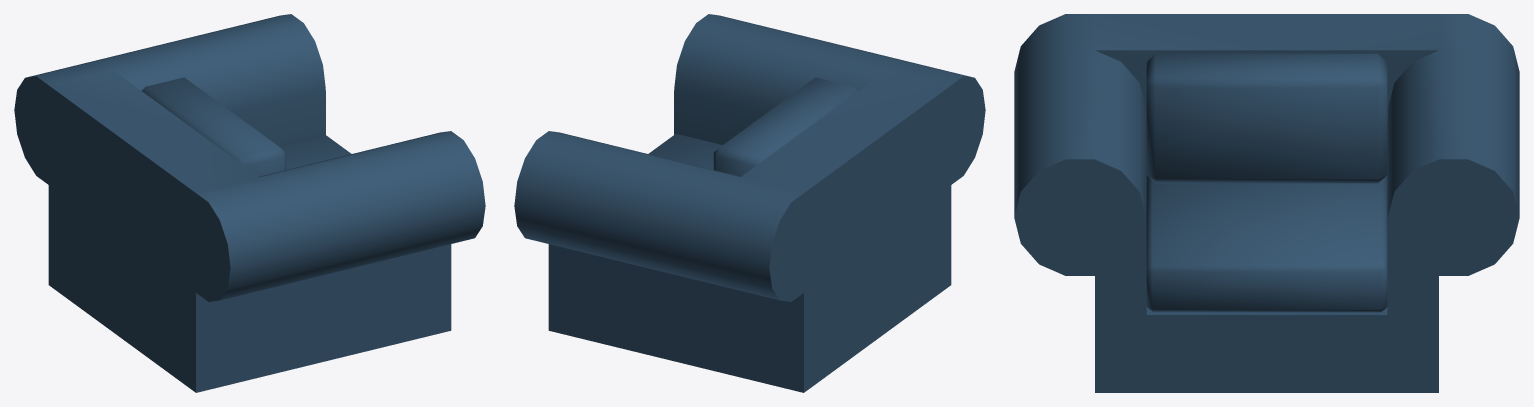
Rendered from armchair.fbx.
The picture shows the model from 3 angles, left to right: view 1: azimuth 30°, elevation 25°; view 2: azimuth 150°, elevation 25°; view 3: azimuth 270°, elevation 25°; orthographic projection. The views are drawn at different scales.
Visible parts, largest first — view 1: armchair; view 2: armchair; view 3: armchair.
Boxes of the visible parts, x1,y1,x2,y2 form: armchair: [14, 14, 485, 392]; armchair: [514, 14, 985, 392]; armchair: [1014, 14, 1519, 392].
Size of the model in its own units: 200 by 150 by 294.
Materials: 1 (1 with a texture image).
